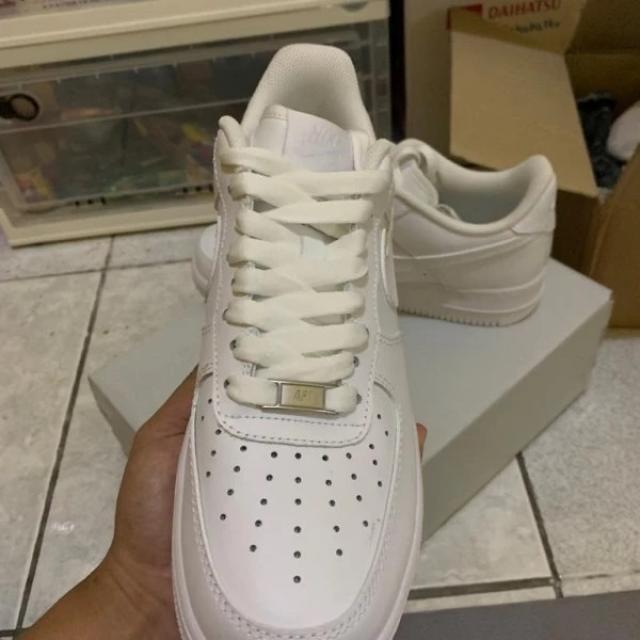nike original air force: (167, 41, 423, 640)
